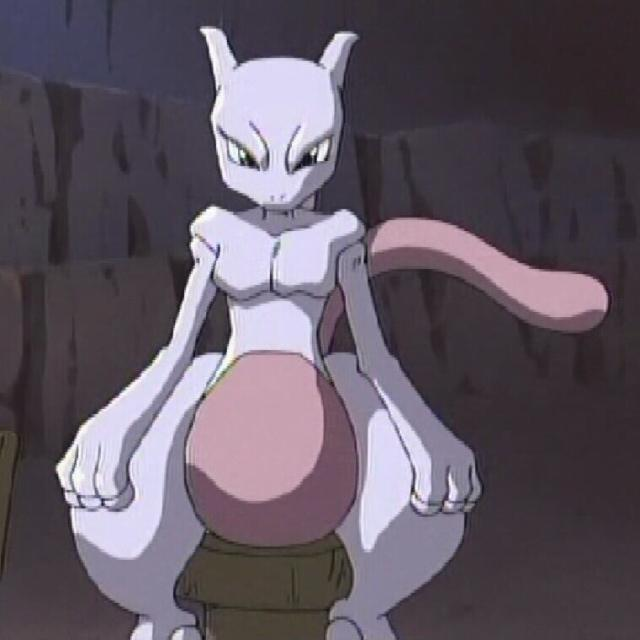Mewtwo: (143, 20, 406, 568)
